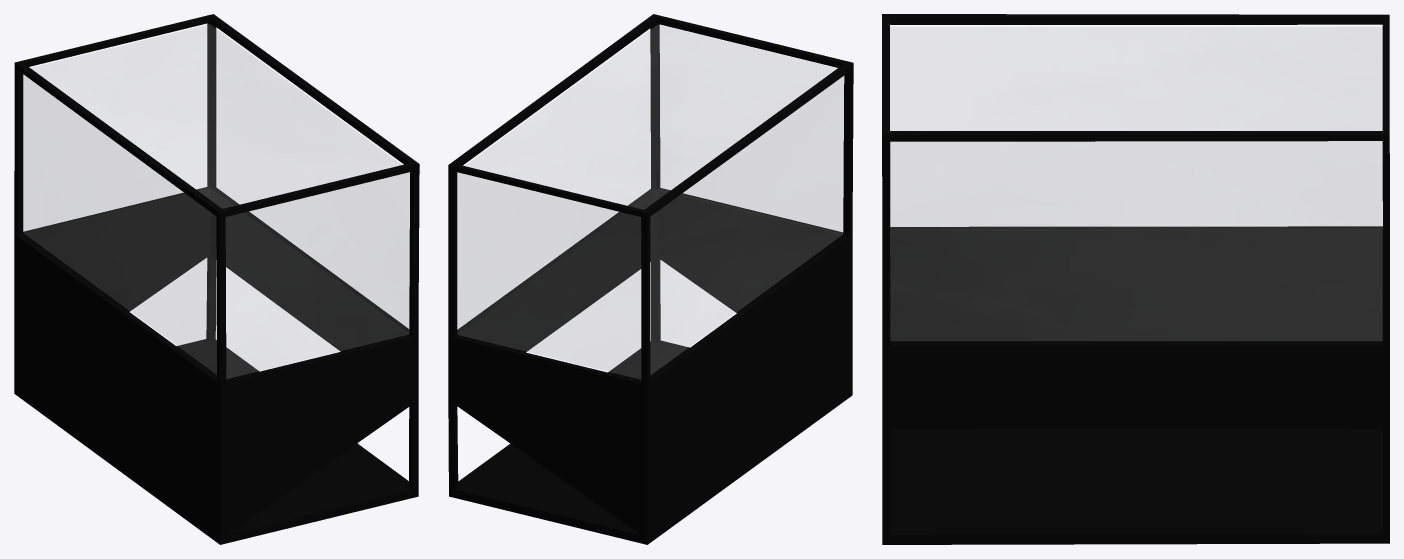
Rendered from display_case_maya.glb.
3 views of the same model, side by side, from view 1: azimuth 30°, elevation 25°; view 2: azimuth 150°, elevation 25°; view 3: azimuth 270°, elevation 25° (orthographic). The views are drawn at different scales.
Parts seen in each view (by area): view 1: pCube7; view 2: pCube7; view 3: pCube7.
Boxes of the visible parts, x1,y1,x2,y2 form: pCube7: (14, 14, 419, 544); pCube7: (448, 14, 853, 544); pCube7: (882, 14, 1389, 544).
Bounding box in the file's own units: 0.057 × 0.0934 × 0.1014.
2 materials, 1 textured.
